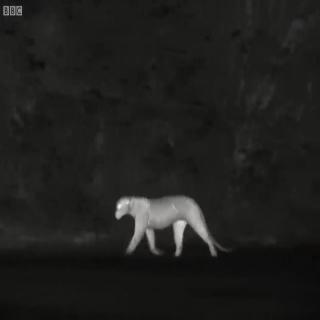Leopard: (109, 162, 226, 276)
